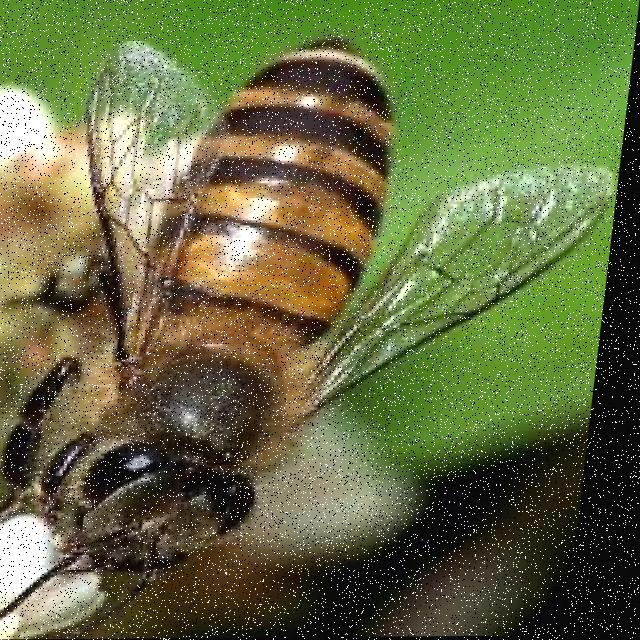Apis-mellifera-scutellata: (0, 0, 603, 618)
